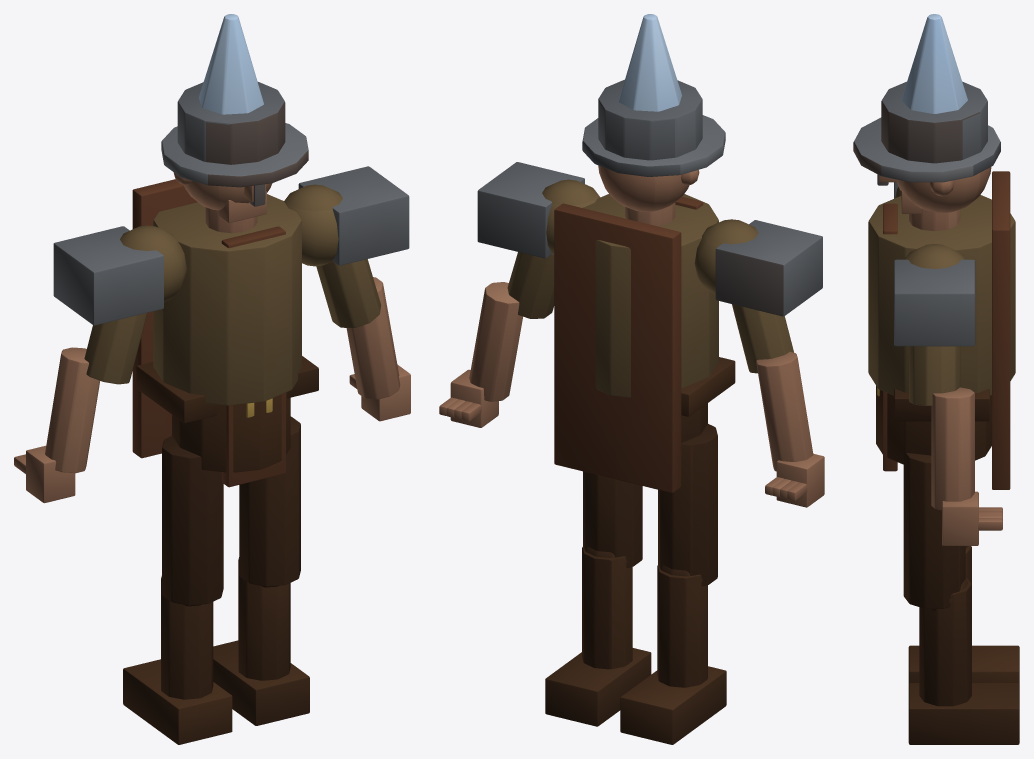
File: unit_ember_raider.fbx
3 views of the same model, side by side, from view 1: azimuth 30°, elevation 25°; view 2: azimuth 150°, elevation 25°; view 3: azimuth 270°, elevation 25° (orthographic). The views are drawn at different scales.
Visible parts, largest first — view 1: unit_ember_raider; view 2: unit_ember_raider; view 3: unit_ember_raider.
Part boxes in pixels (x1=…): unit_ember_raider: x1=14, y1=14, x2=410, y2=744; unit_ember_raider: x1=439, y1=14, x2=824, y2=744; unit_ember_raider: x1=853, y1=14, x2=1019, y2=744.
Size of the model in its own units: 1.14 by 2.08 by 0.45.
